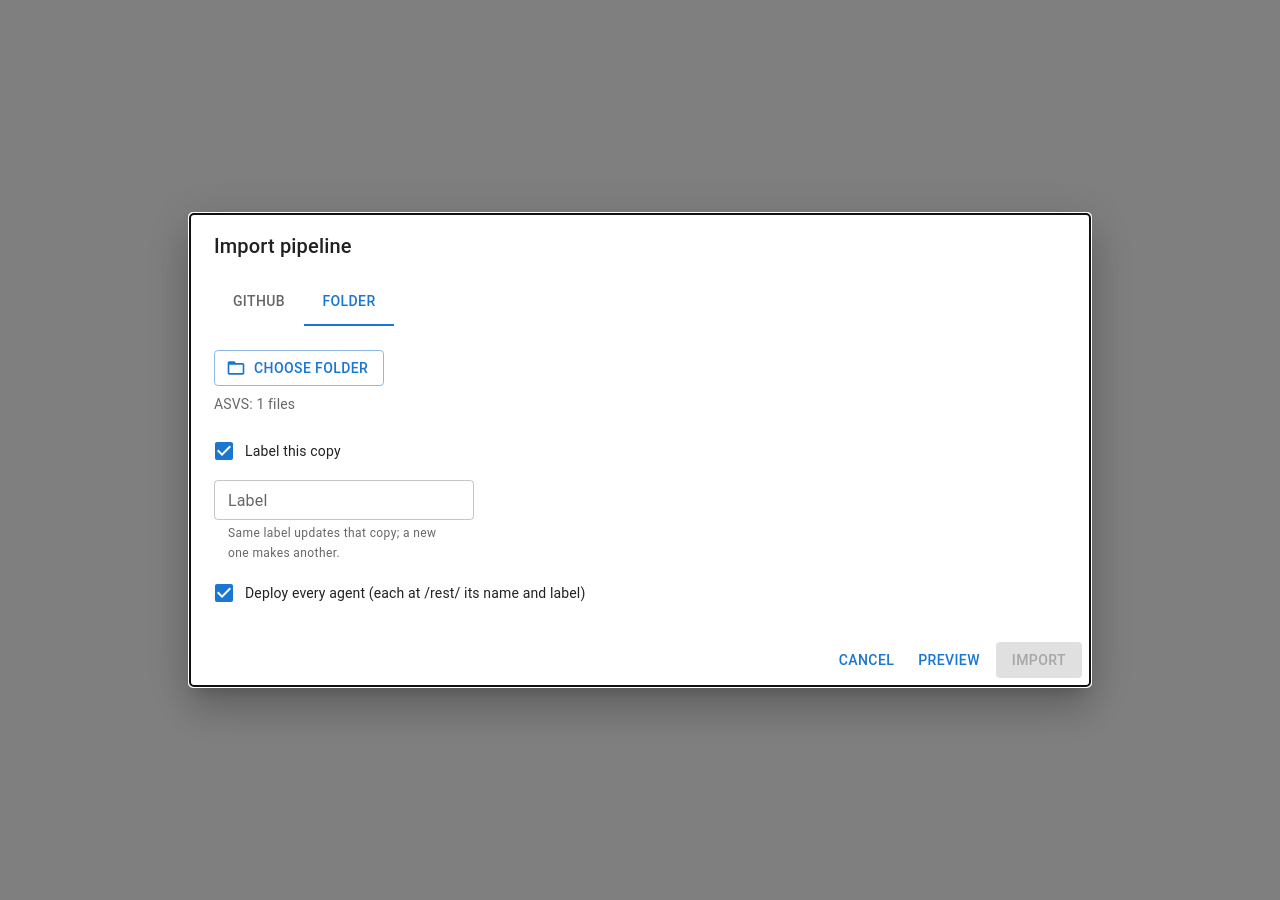
it: PipelineImportDialog › imports a folder into the copy it previewed, not a new timestamp
Earlier steps of the test are not shown.
Later steps or results of the test are not shown.
Expected: the text "ASVS: 1 files" is shown, [214,394,295,414]
Click the button "Preview".
click(949, 660)  # box [910,642,988,678]
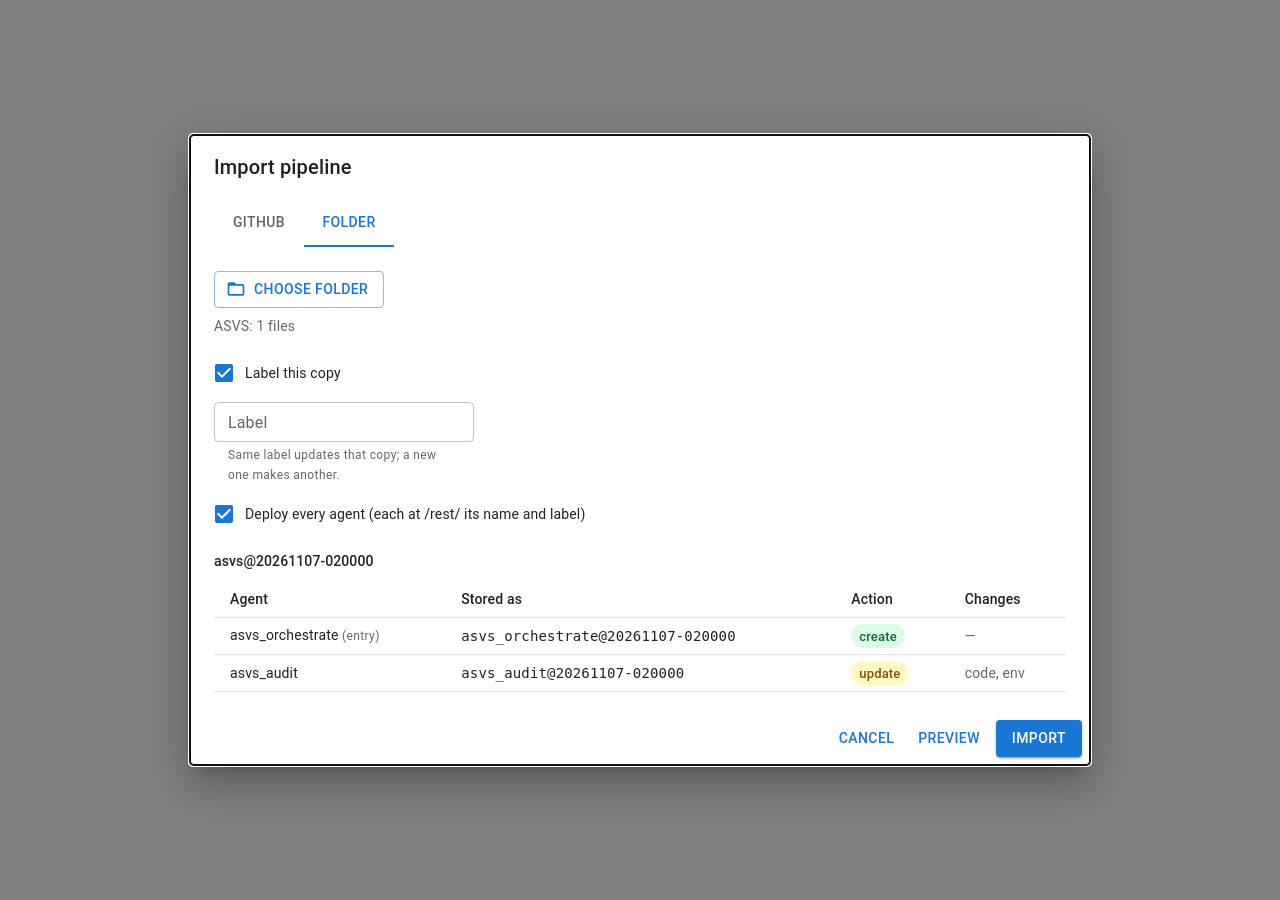
Expected: the heading "asvs@20261107-020000" is shown, [214,553,374,569]
